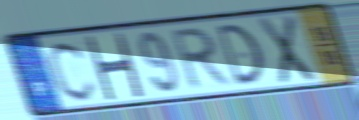9: (137, 30, 180, 94)
C: (46, 38, 99, 104)
D: (213, 21, 268, 88)
H: (82, 32, 147, 101)
R: (169, 25, 234, 93)
X: (255, 12, 319, 87)
